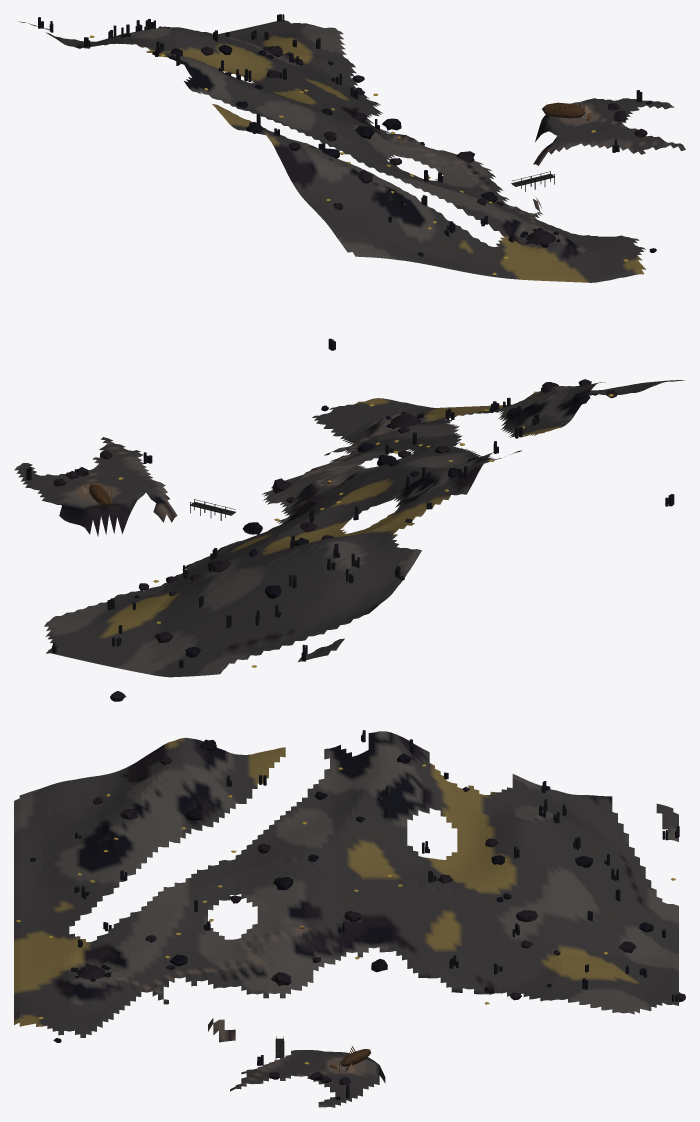
Rendered from ash_isl_ember_wreck.glb.
3 renders of one model, top to bottom at view 1: azimuth 30°, elevation 25°; view 2: azimuth 150°, elevation 25°; view 3: azimuth 270°, elevation 25°, orthographic. The views are drawn at different scales.
Parts seen in each view (by area): view 1: geometry_0; view 2: geometry_0; view 3: geometry_0.
Part boxes in pixels (box(x1,y1,x2,y2)): geometry_0: box(18, 14, 685, 350); geometry_0: box(14, 379, 685, 701); geometry_0: box(14, 730, 685, 1107).
Bounding box in the file's own units: 197 × 69.98 × 243.
